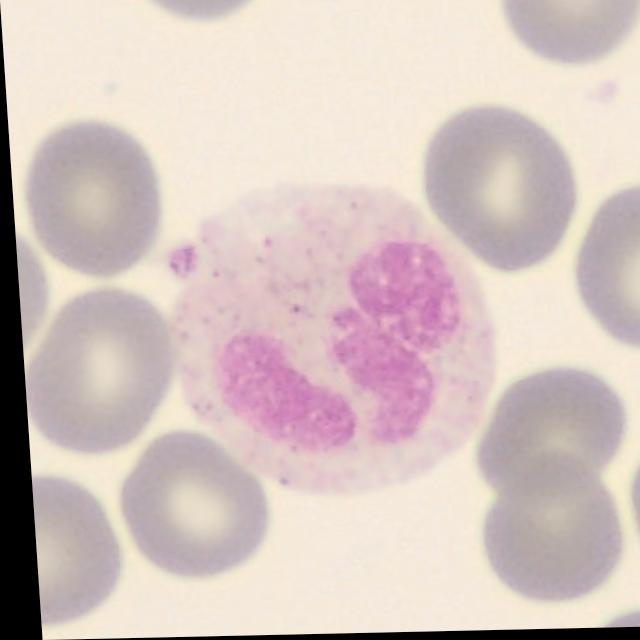Neutrofilo segmentado: (163, 184, 496, 499)
